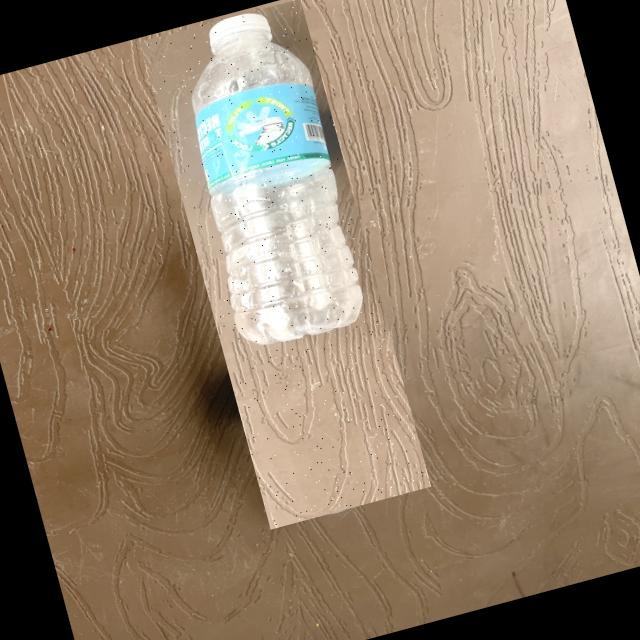REJECT: (140, 0, 431, 529)
